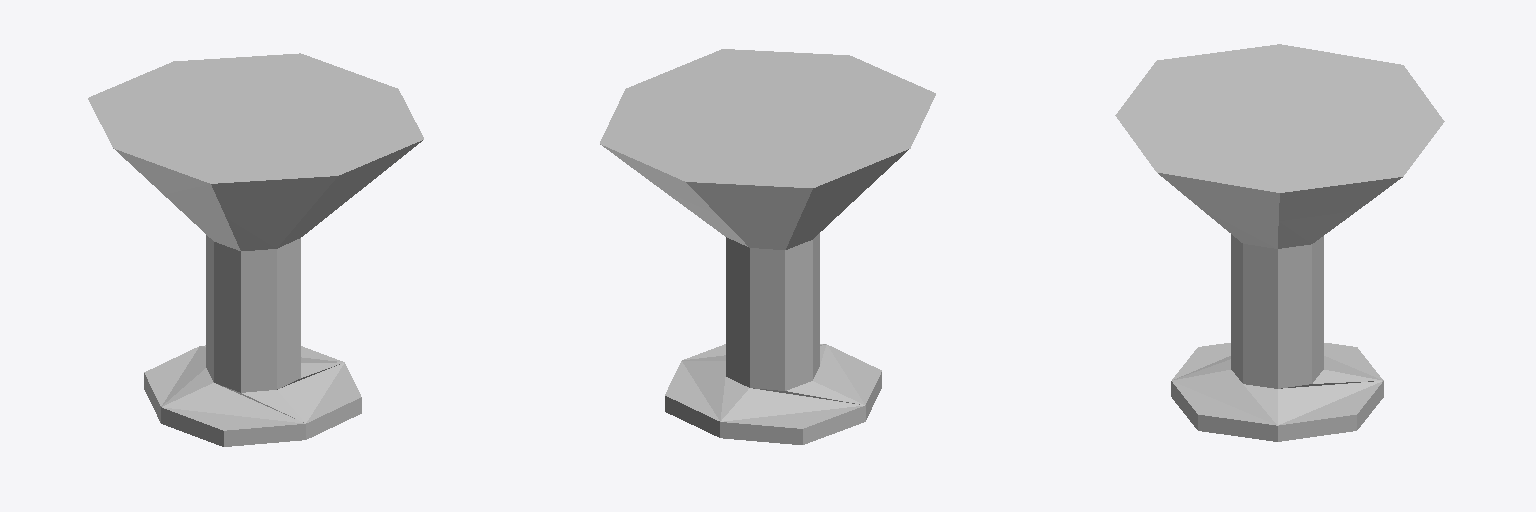
Rendered from stativ.obj.
The picture shows the model from 3 angles: view 1: azimuth 30°, elevation 25°; view 2: azimuth 150°, elevation 25°; view 3: azimuth 270°, elevation 25°; orthographic projection.
Parts seen in each view (by area): view 1: Mesh_0; view 2: Mesh_0; view 3: Mesh_0.
Boxes of the visible parts, x1,y1,x2,y2 form: Mesh_0: [88, 53, 423, 446]; Mesh_0: [600, 49, 935, 444]; Mesh_0: [1115, 44, 1444, 441].
Size of the model in its own units: 0.4022 by 0.3863 by 0.4023.